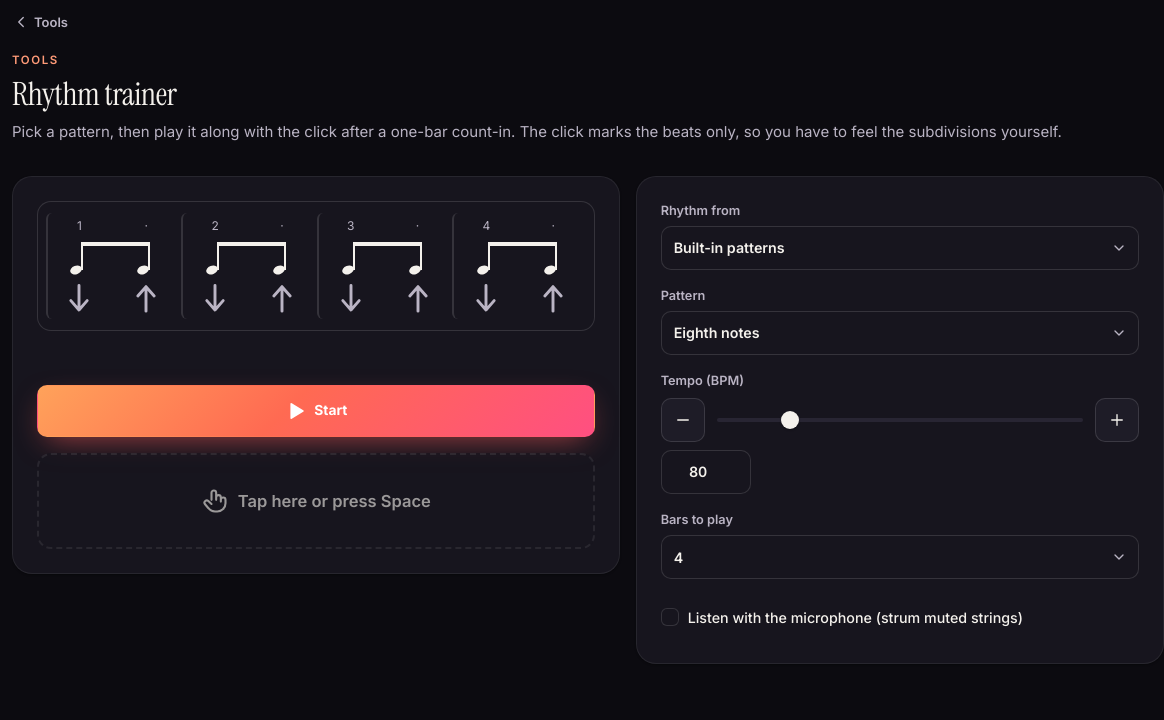
Test: RhythmTrainerView › draws connected beams for eighth notes, sixteenths, and triplets
Note: Switch to sixteenths: 16 cells, 4 groups of 4 with primary and secondary beams of span 3
Select "Sixteenth notes" in the dropdown with test id "rhythm-pattern" at (900, 333), box [661,311,1139,355]
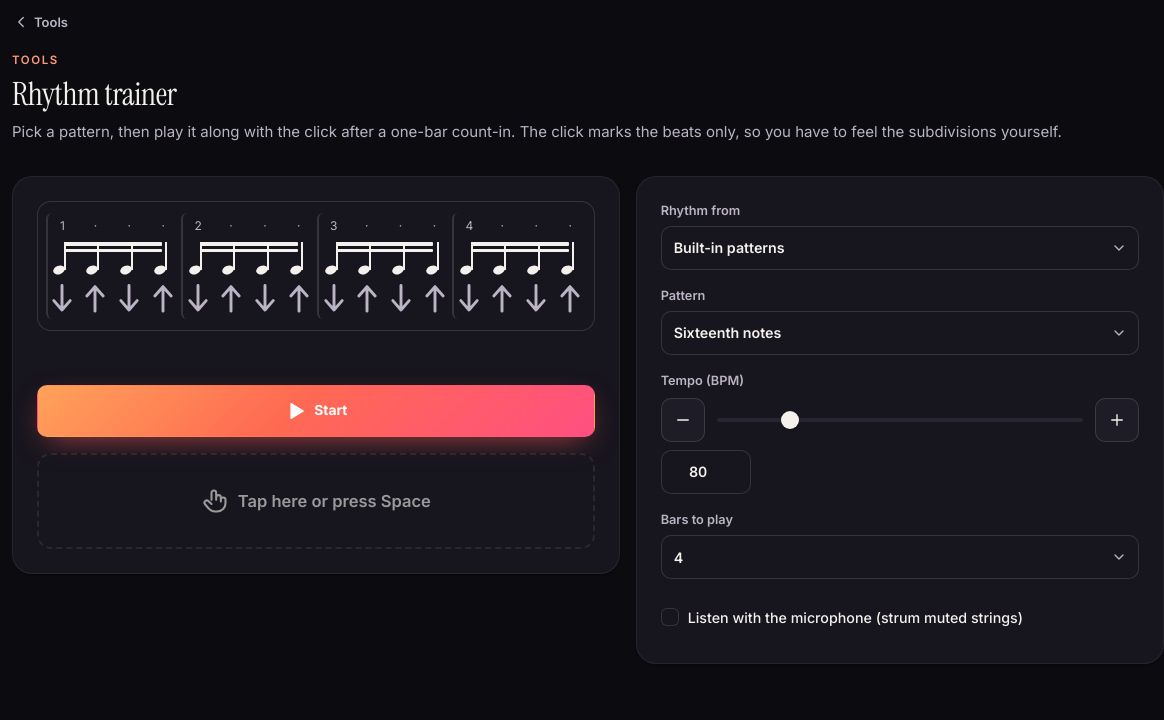
Expected: the number of elements with test id "rhythm-beam-secondary" is 4, [64,249,162,252]; [200,249,298,252]; [336,249,434,252]; [471,249,569,252]
Note: Switch to triplets: 12 cells, 4 groups of 3 with beam of span 2
Select "Eighth-note triplets" in the dropdown with test id "rhythm-pattern" at (900, 333), box [661,311,1139,355]
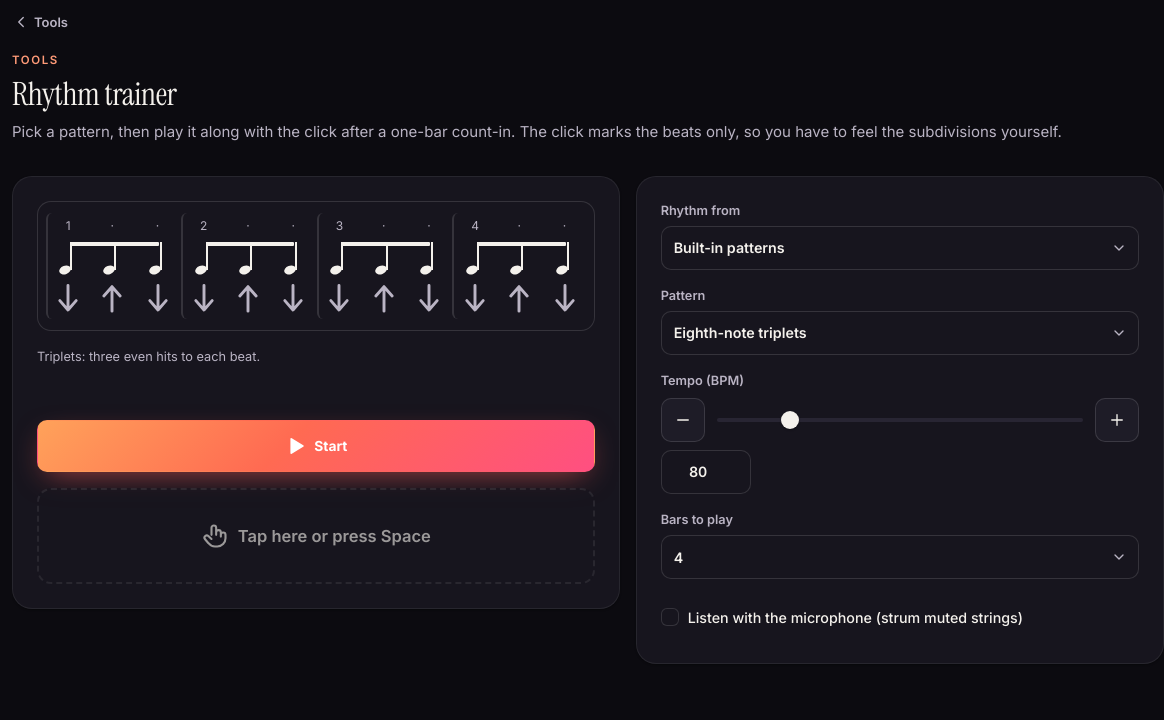
Note: Switch to quarters: 4 quarter notes, no beams
Select "Quarter notes" in the dropdown with test id "rhythm-pattern" at (900, 333), box [661,311,1139,355]
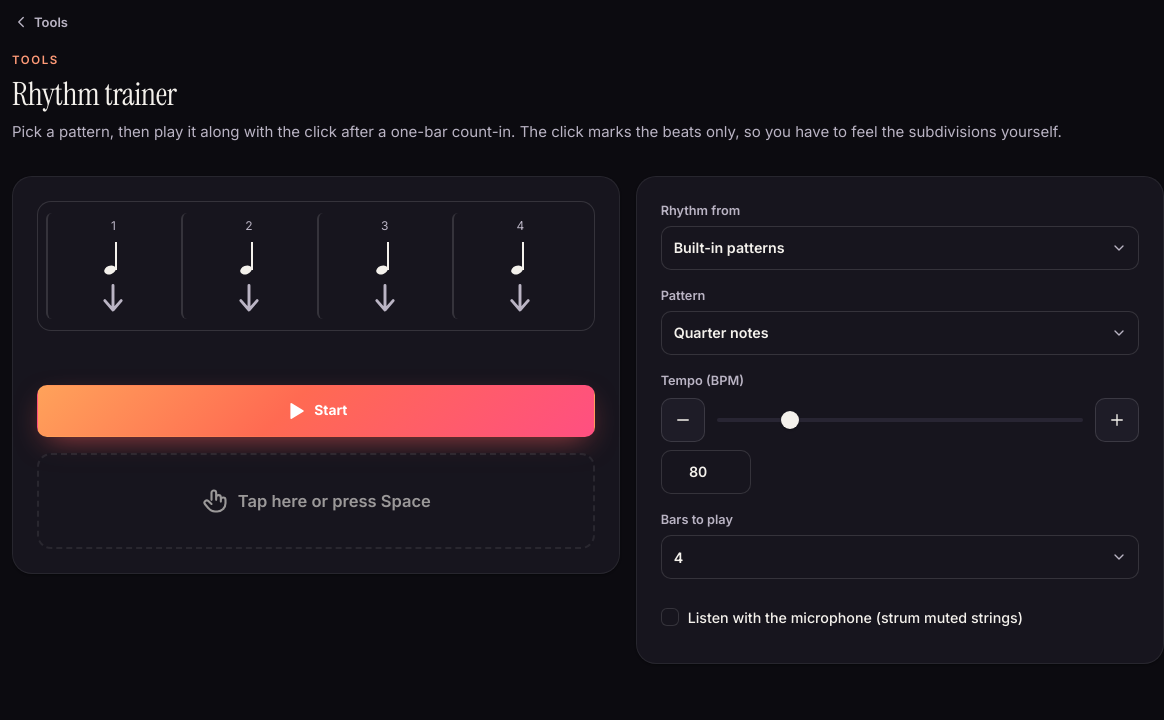
Expected: no elements with test id "rhythm-beam" are shown
